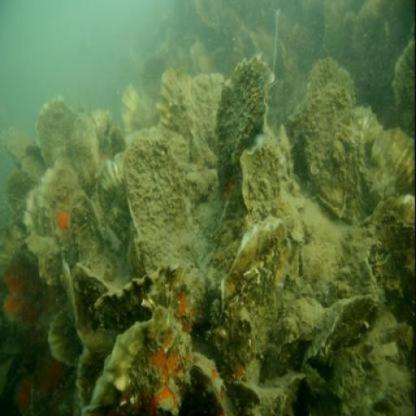Oyster- Indeterminate: (219, 217, 291, 388), (23, 169, 110, 286)
Oyster-Closed: (85, 310, 192, 416), (124, 142, 197, 260), (216, 62, 275, 201), (93, 269, 195, 338)
